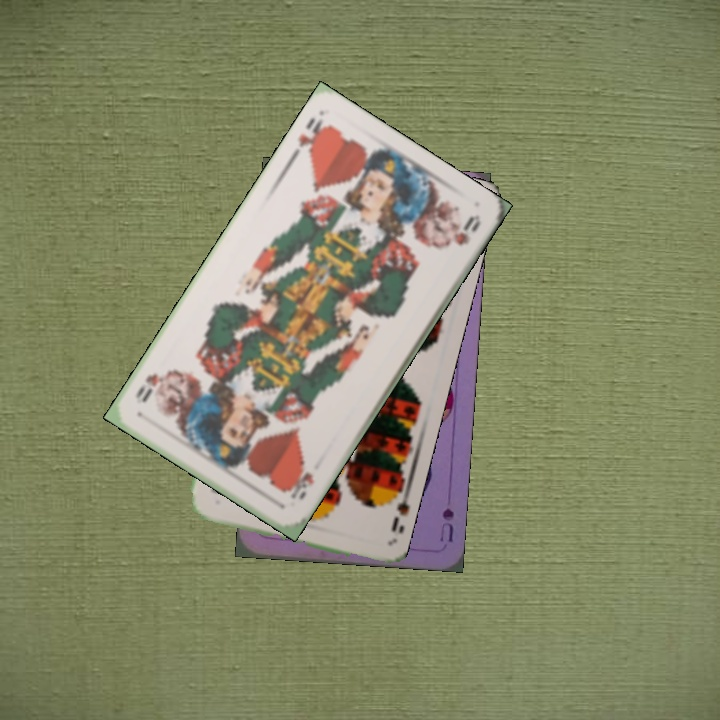HO: (285, 113, 333, 164), (286, 467, 317, 503)
S9: (387, 484, 412, 535)
SU: (435, 504, 456, 545)
